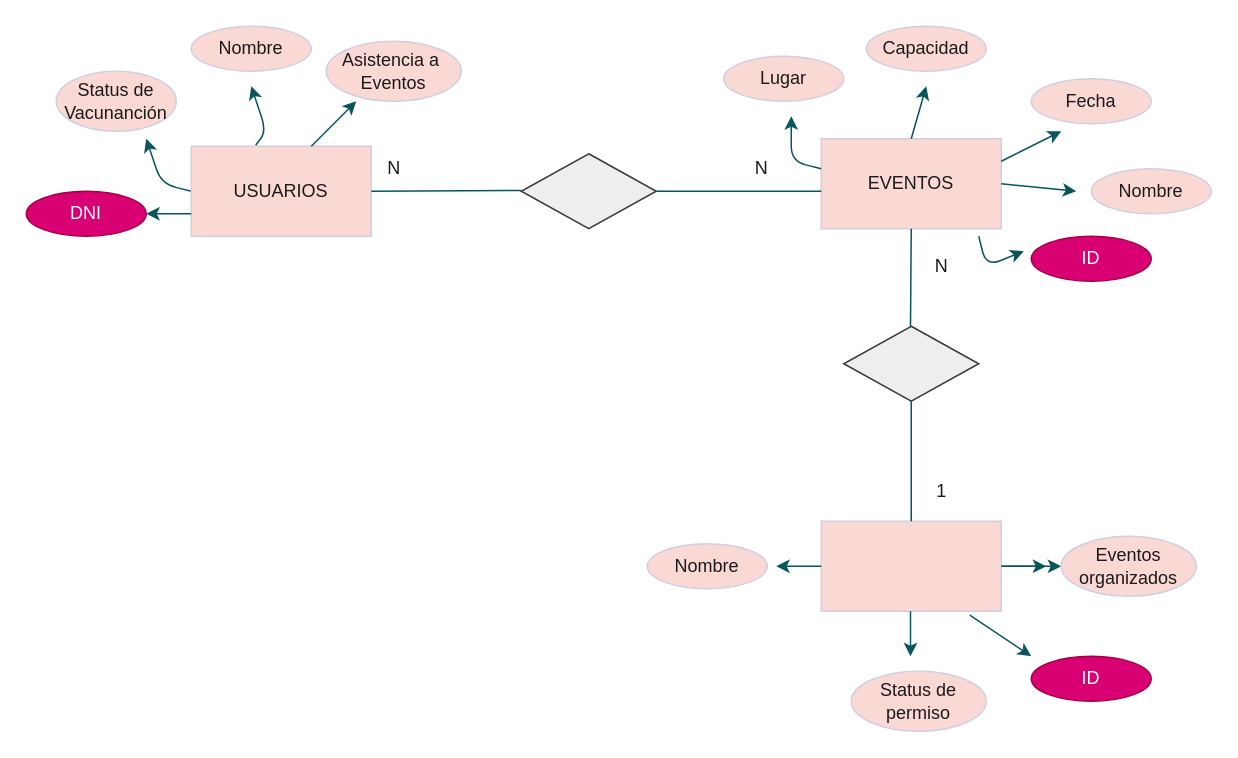
The diagram is 1238 pixels wide and 758 high, and some of its shapes have lost their labels. The centre of each missing label's shape, as x and y in pixels:
ANFITRION: the point at 910,565
Ofrece: the point at 910,363
Reserva: the point at 588,190
